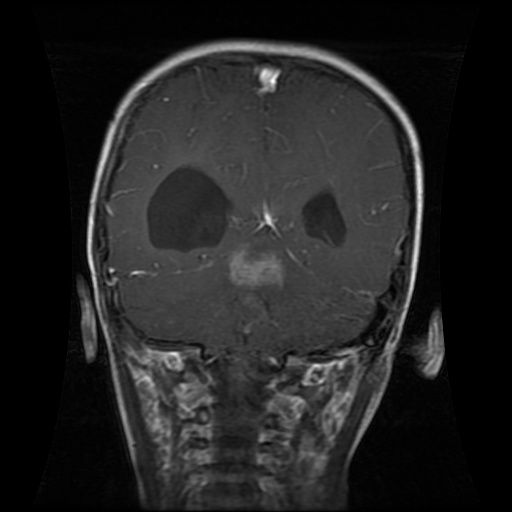glioma: (142, 162, 288, 295)
